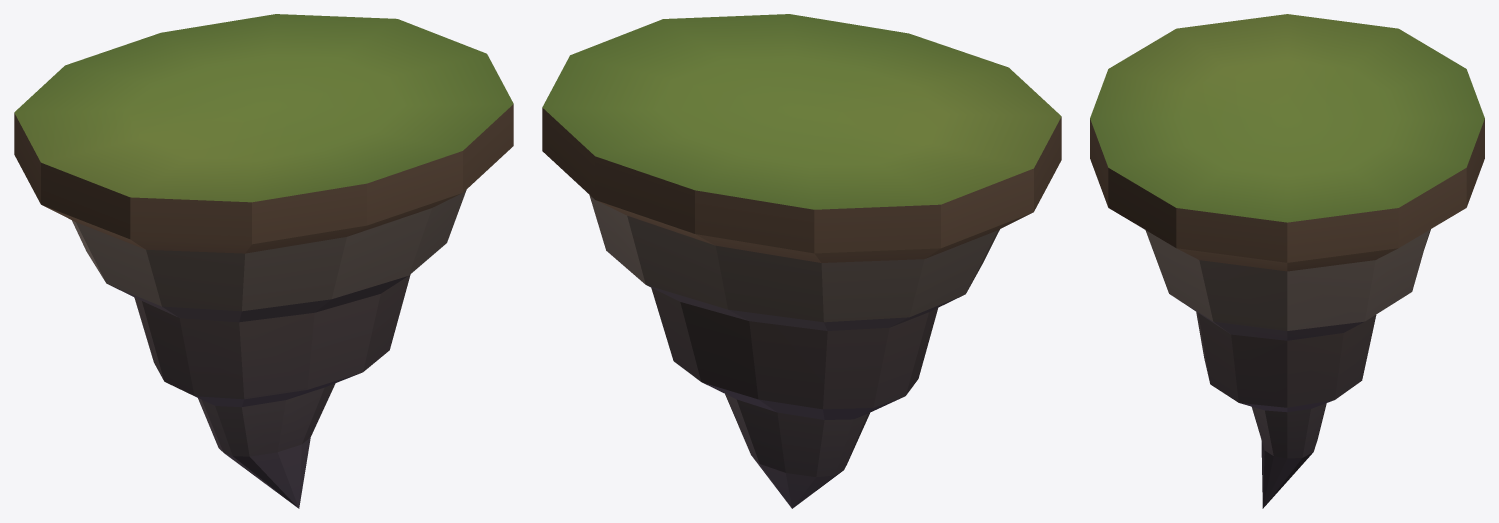
Rendered from rocher_S.glb.
3 views of the same model, side by side, from view 1: azimuth 30°, elevation 25°; view 2: azimuth 150°, elevation 25°; view 3: azimuth 270°, elevation 25° (orthographic). The views are drawn at different scales.
Visible parts, largest first — view 1: rocher_S; view 2: rocher_S; view 3: rocher_S.
Boxes of the visible parts, <box> form: rocher_S: <box>14,14,513,508</box>; rocher_S: <box>542,14,1061,508</box>; rocher_S: <box>1090,14,1484,508</box>.
Size of the model in its own units: 1.8 by 1.53 by 1.44.
